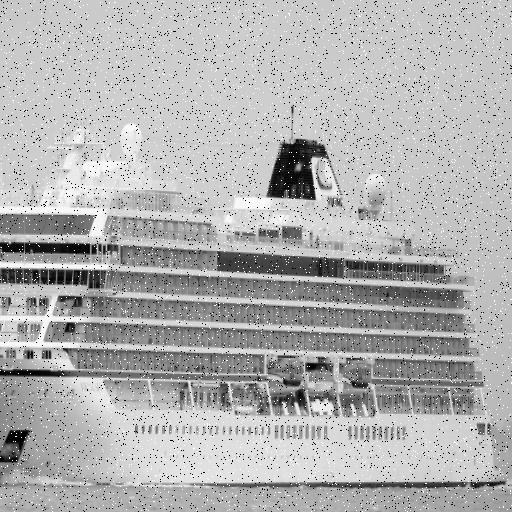cruises: (1, 101, 512, 493)
